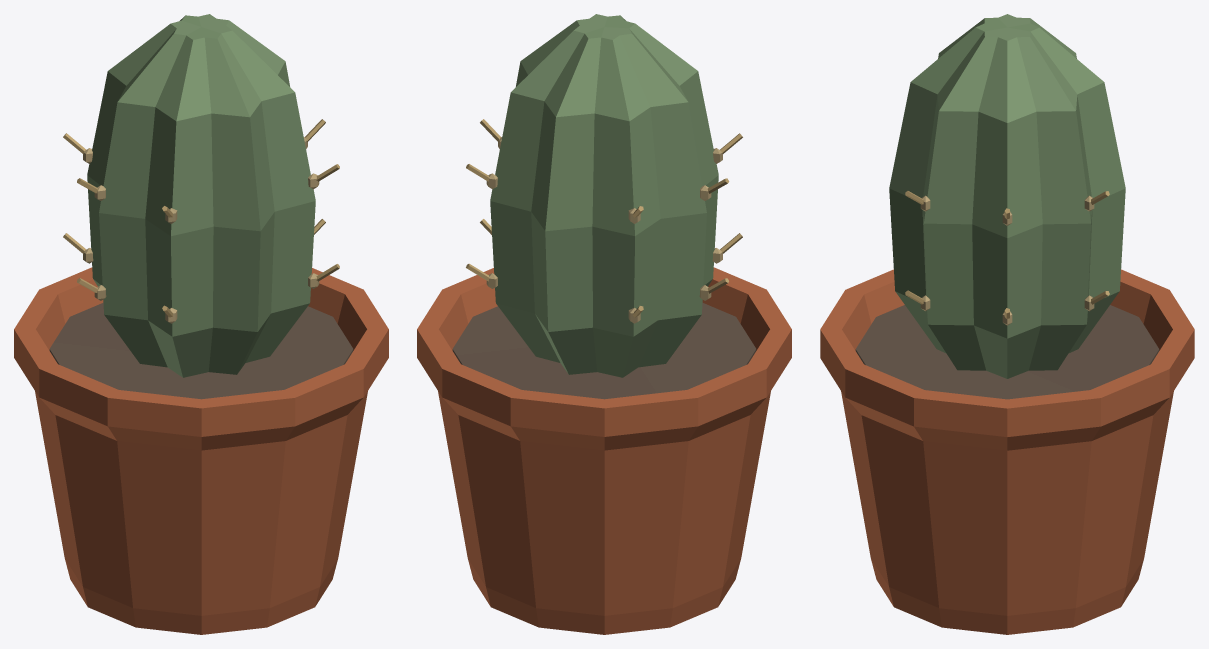
The model's file is new-ornatum.glb.
The picture shows the model from 3 angles, left to right: view 1: azimuth 30°, elevation 25°; view 2: azimuth 150°, elevation 25°; view 3: azimuth 270°, elevation 25°; orthographic projection.
Parts seen in each view (by area): view 1: new-ornatum/review-terra-vessel, new-ornatum/ribbed-stem-001, new-ornatum/review-rooted-soil; view 2: new-ornatum/review-terra-vessel, new-ornatum/ribbed-stem-001, new-ornatum/review-rooted-soil; view 3: new-ornatum/review-terra-vessel, new-ornatum/ribbed-stem-001, new-ornatum/review-rooted-soil.
Boxes of the visible parts, left/top/right/bottom form: new-ornatum/review-terra-vessel: left=14, top=267, right=388, bottom=634; new-ornatum/ribbed-stem-001: left=87, top=14, right=315, bottom=377; new-ornatum/review-rooted-soil: left=49, top=302, right=353, bottom=399; new-ornatum/review-terra-vessel: left=417, top=267, right=791, bottom=634; new-ornatum/ribbed-stem-001: left=490, top=14, right=718, bottom=377; new-ornatum/review-rooted-soil: left=452, top=302, right=756, bottom=399; new-ornatum/review-terra-vessel: left=820, top=269, right=1194, bottom=634; new-ornatum/ribbed-stem-001: left=889, top=14, right=1125, bottom=378; new-ornatum/review-rooted-soil: left=855, top=305, right=1159, bottom=399.
Size of the model in its own units: 0.19 by 0.309 by 0.19.
Materials: 5 (5 with a texture image).
